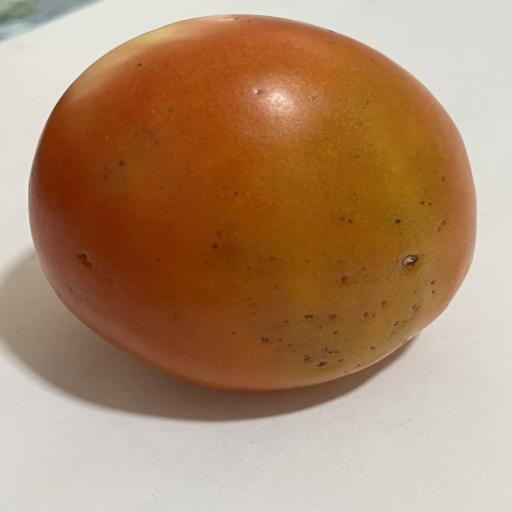unripe: (29, 14, 475, 390)
